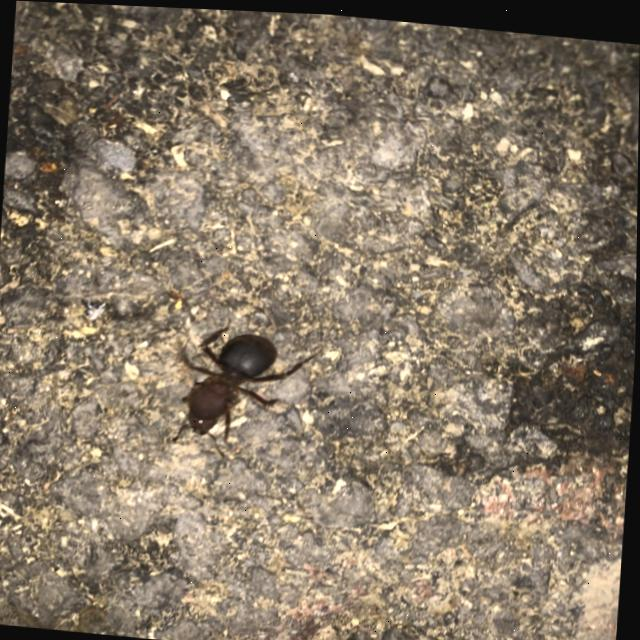Alive-Female-Dealate: (172, 311, 319, 464)
